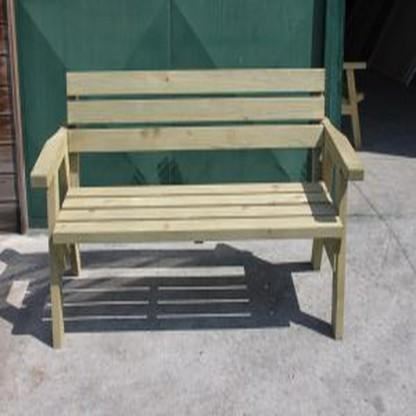obstacle: (12, 62, 373, 374)
